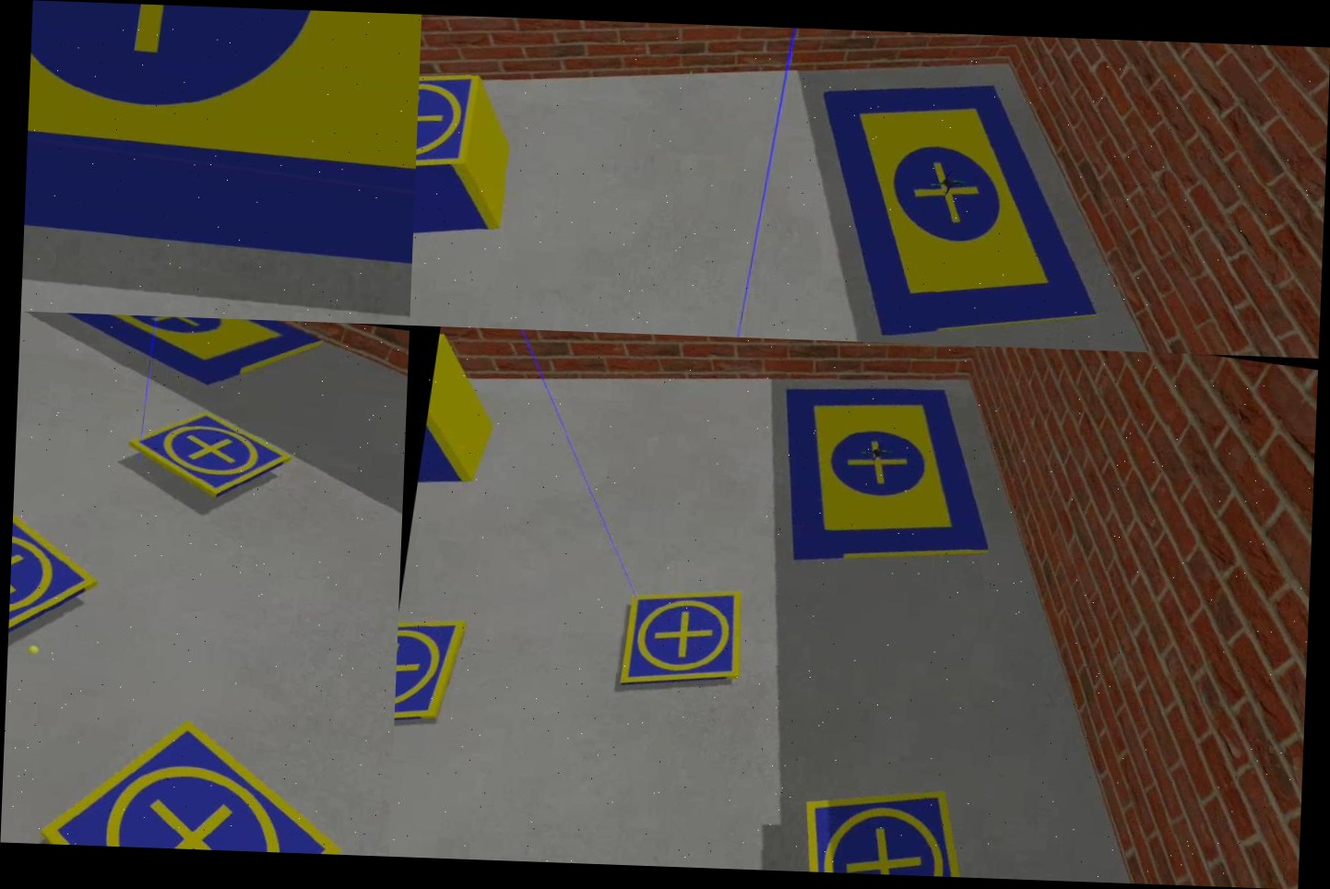large_base: (21, 0, 422, 306), (786, 60, 1130, 351), (759, 367, 1015, 588), (18, 312, 330, 400)
small_base: (25, 700, 357, 854), (784, 775, 989, 877), (122, 399, 299, 511), (611, 574, 752, 701), (7, 497, 107, 671), (415, 59, 481, 193), (394, 613, 468, 728)
